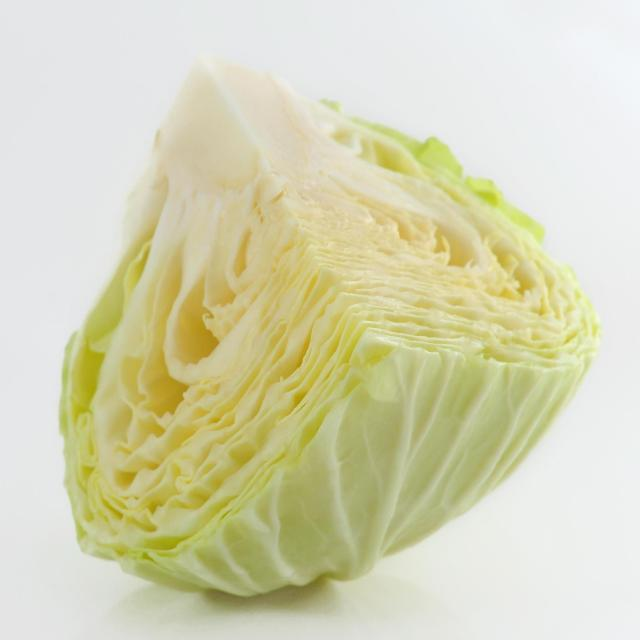haft-cabbage: (54, 51, 608, 606)
